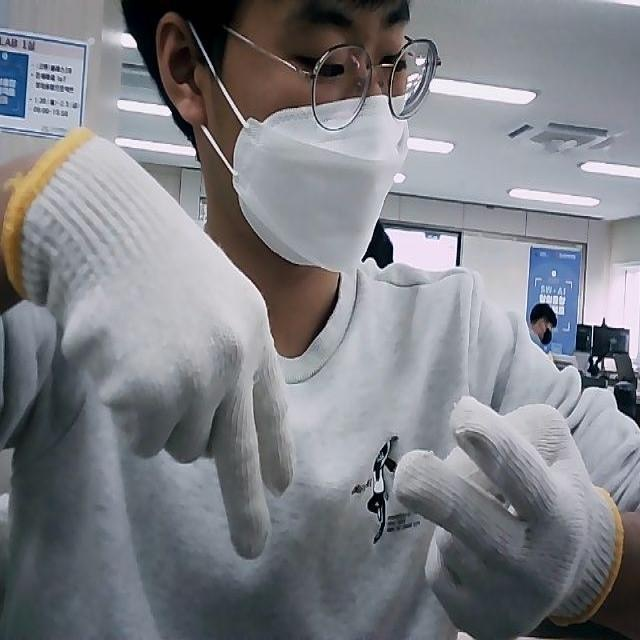Guantes: (3, 128, 294, 559), (389, 396, 623, 640)
